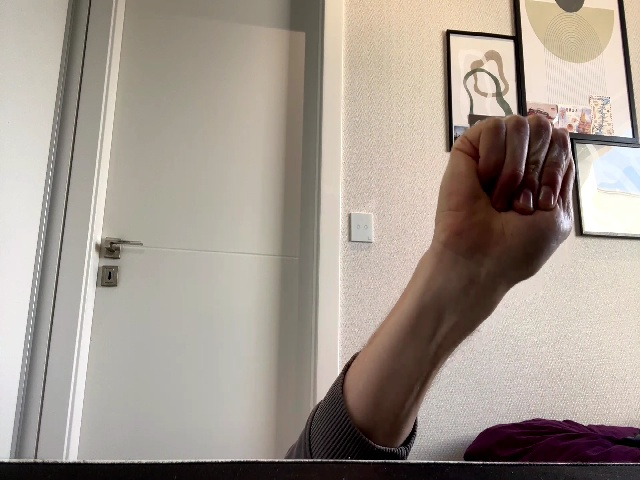A: (435, 113, 576, 282)
